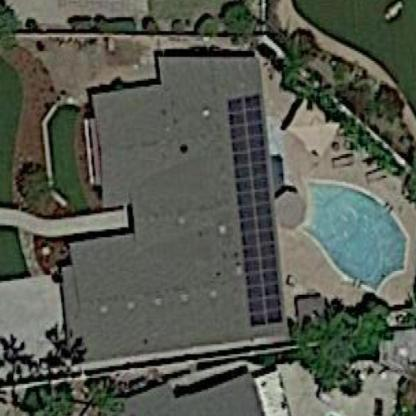solar_panel: (222, 90, 287, 327)
swimming_pool: (279, 165, 413, 300)
